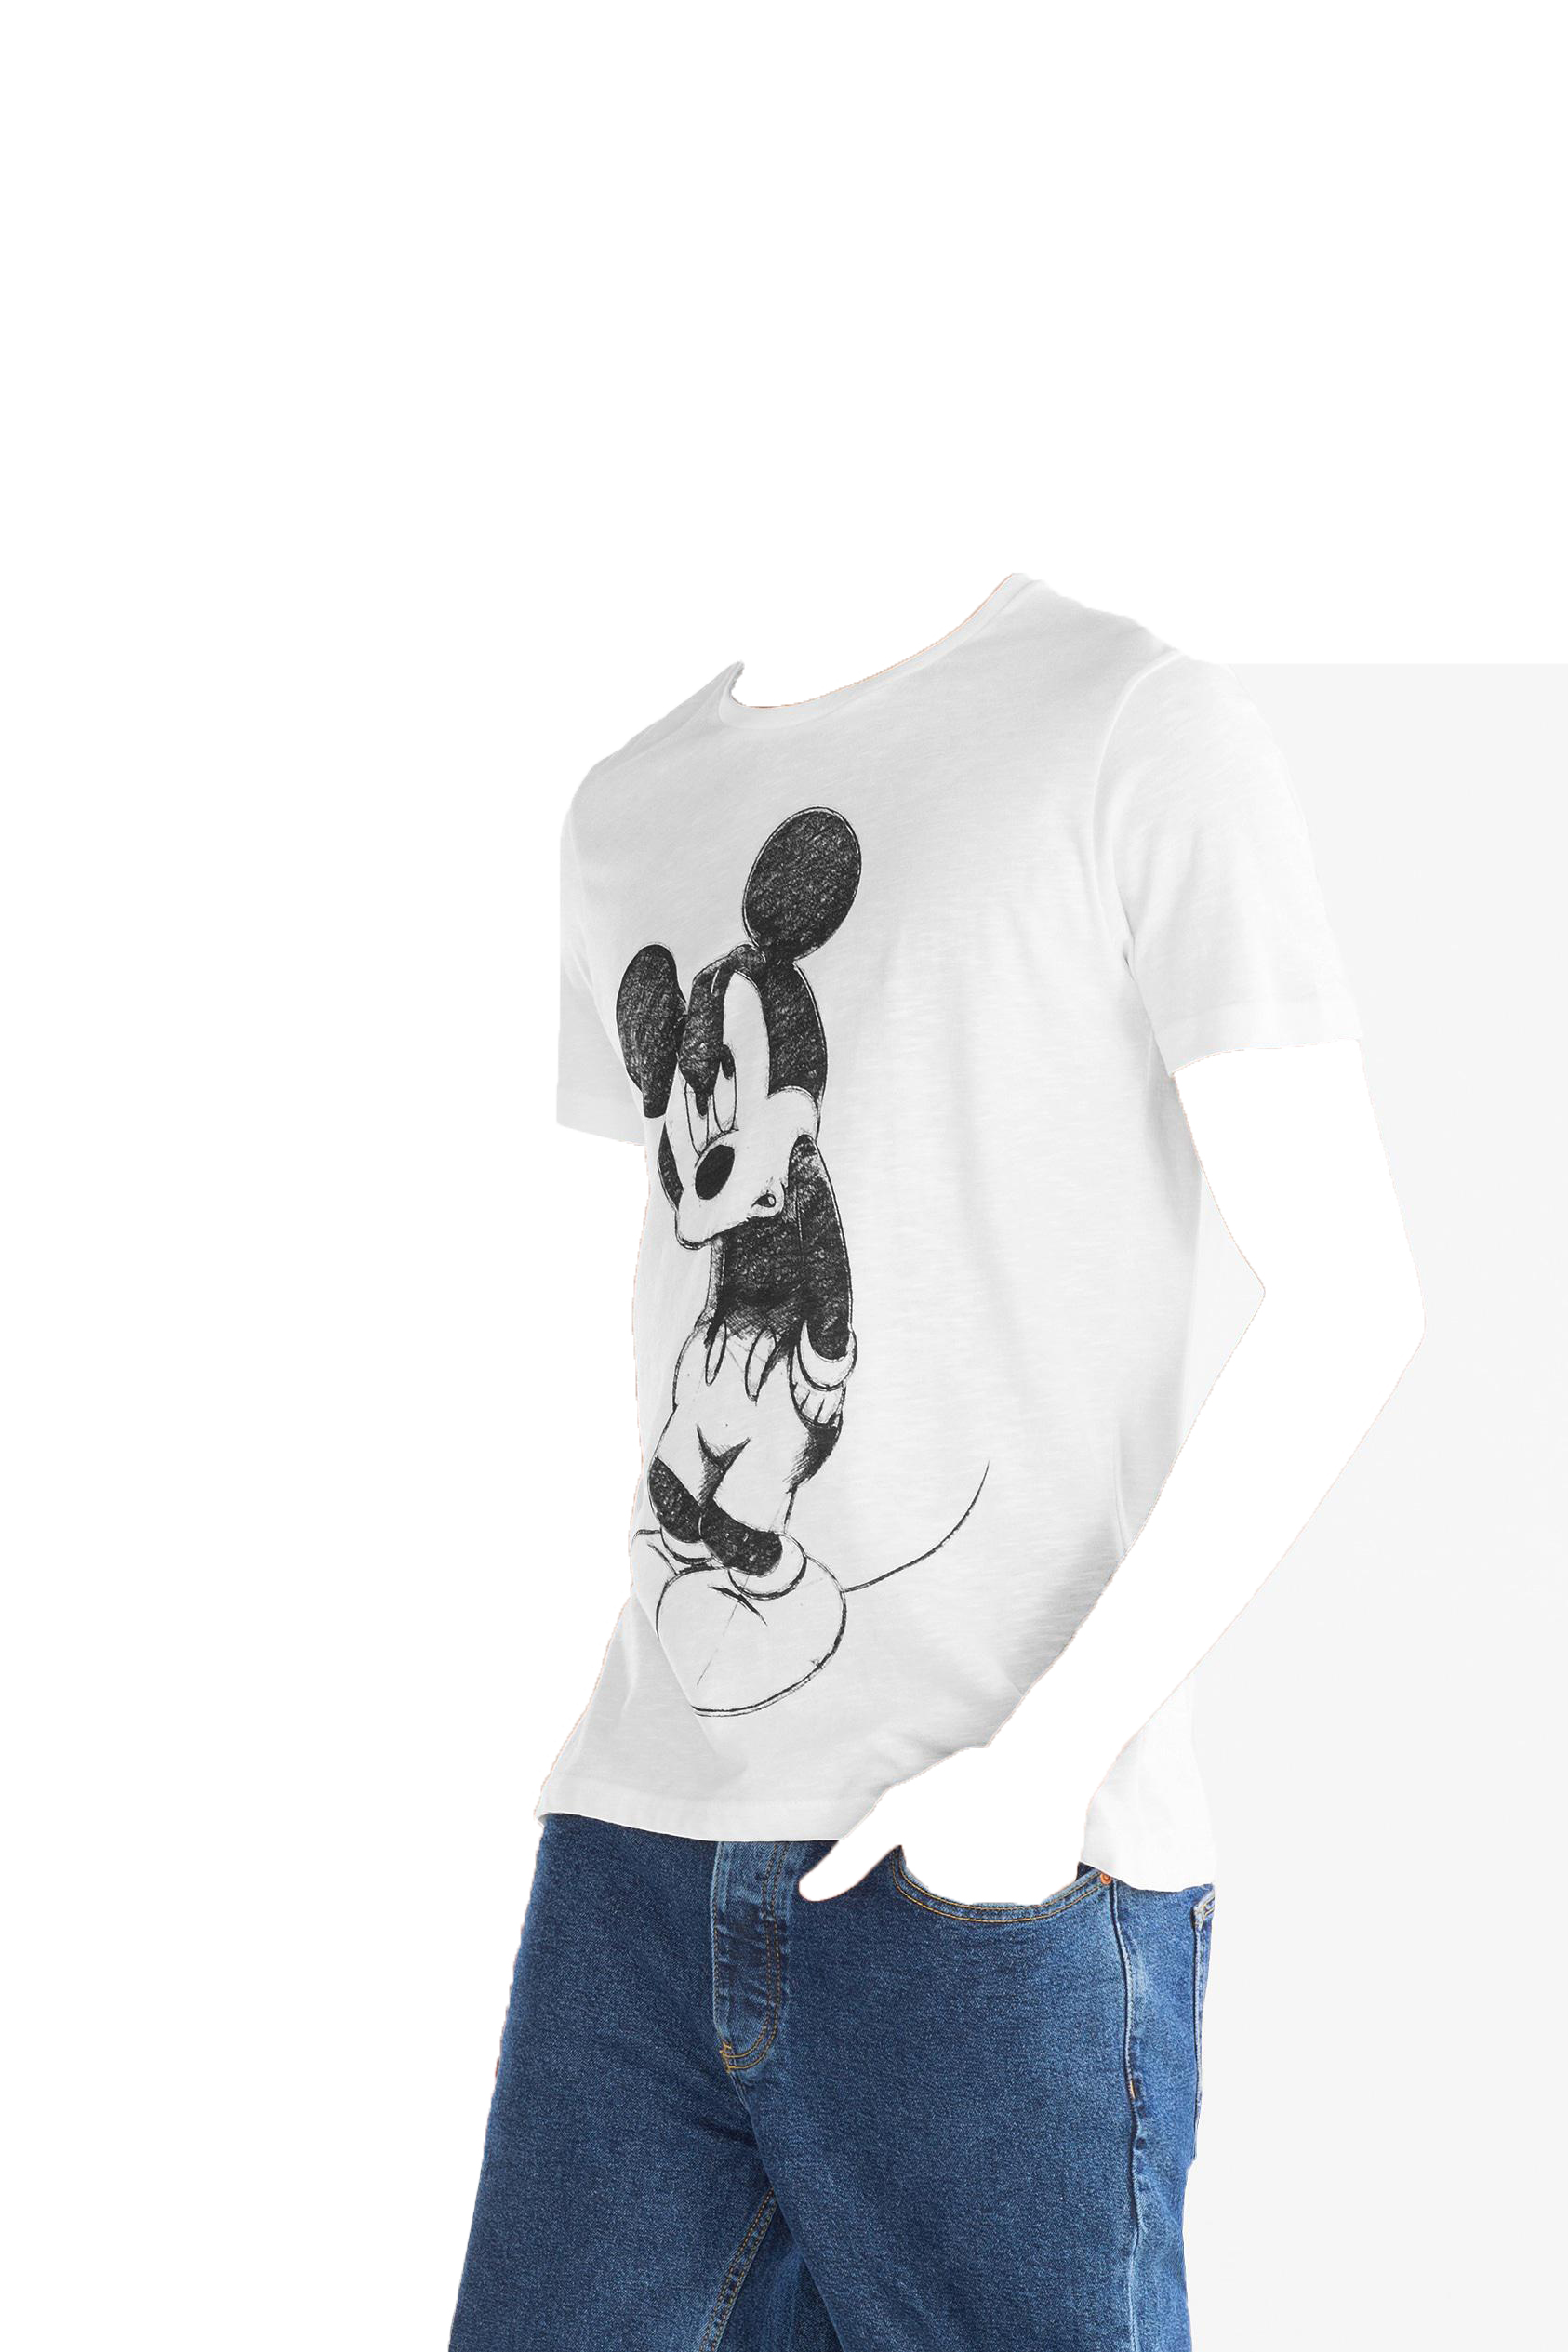teeshirt: (513, 567, 1375, 1930)
